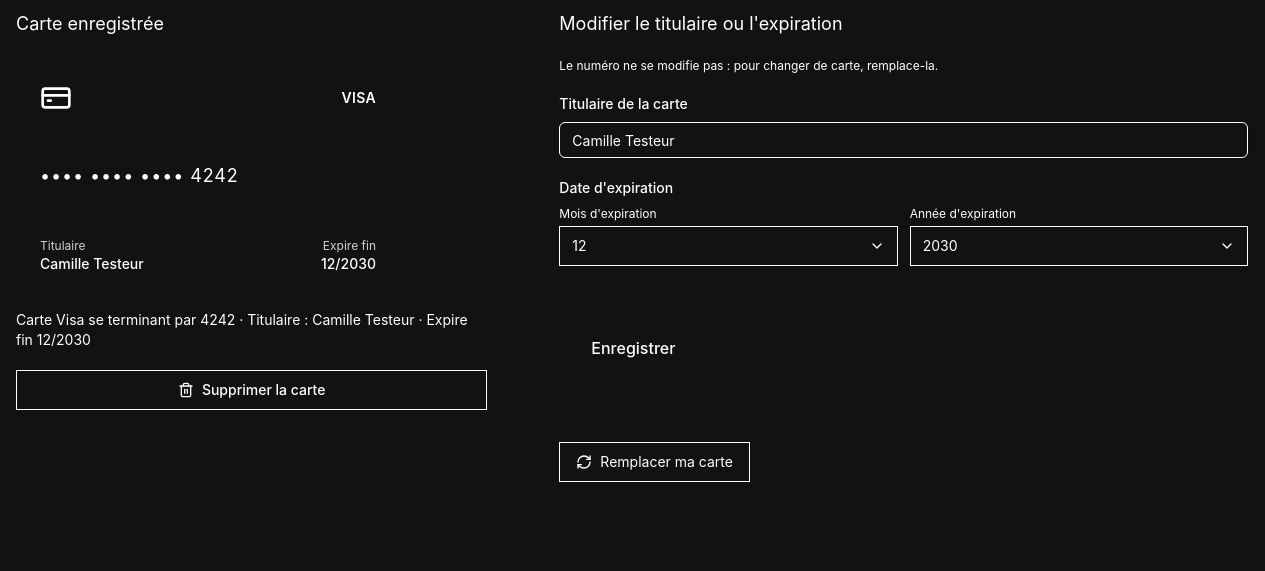
Scenario: saved card › shows the expiry error and the sign-in link after a refused update
The width and height of the screenshot is (1265, 571).
What coordinates should you click on to do the following:
click the button "Enregistrer"
I would click on:
 (633, 348)
Its box is [559,326,707,370].
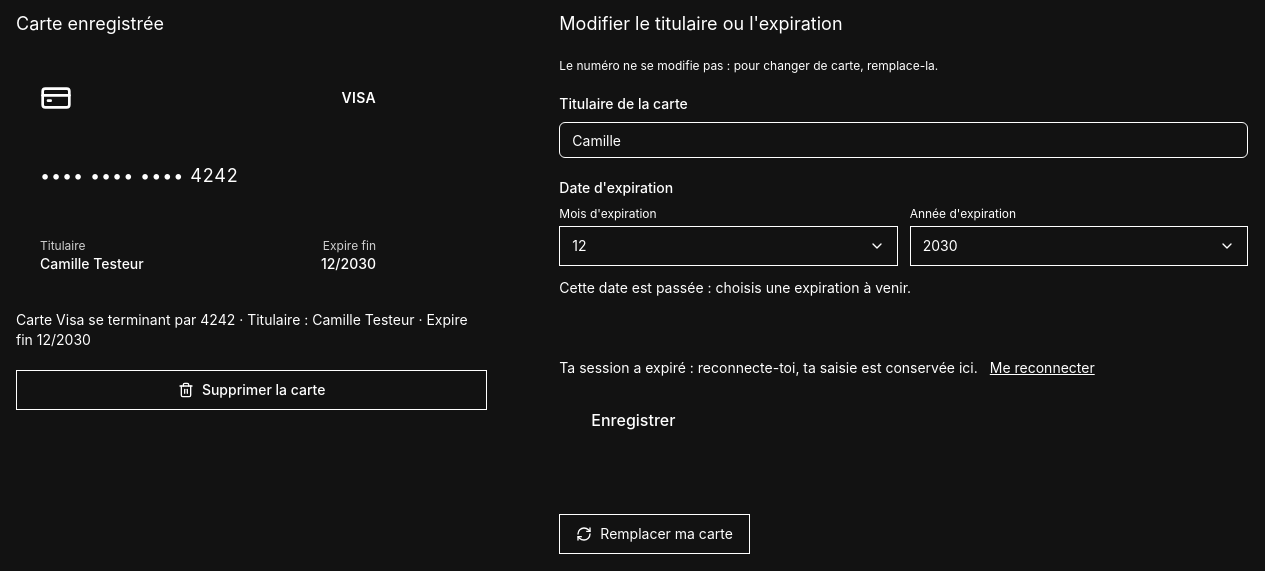
Now the text "Cette date est passée : choisis une expiration à venir." is shown, box [559,279,911,296]
Now the link "Me reconnecter" is shown, box [990,358,1095,378]
Now the field labelled "Titulaire de la carte" holds "Camille", box [559,122,1248,158]
